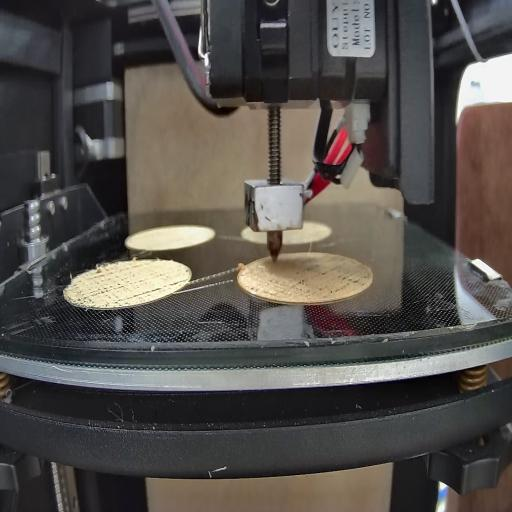under_extrusion: (69, 262, 162, 307), (247, 268, 371, 298), (166, 273, 190, 294)
